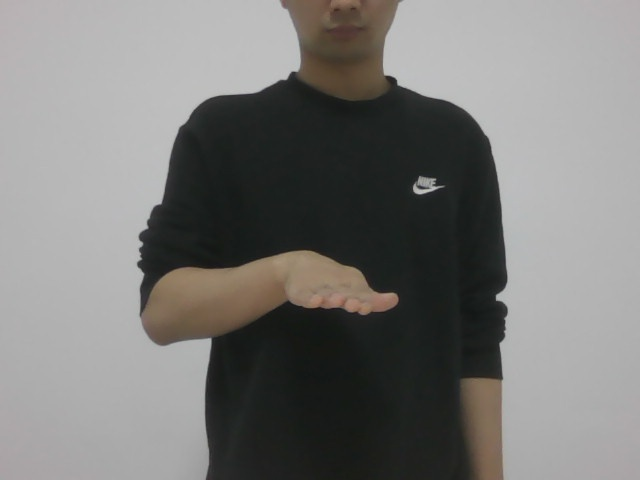slow: (268, 232, 405, 338)
